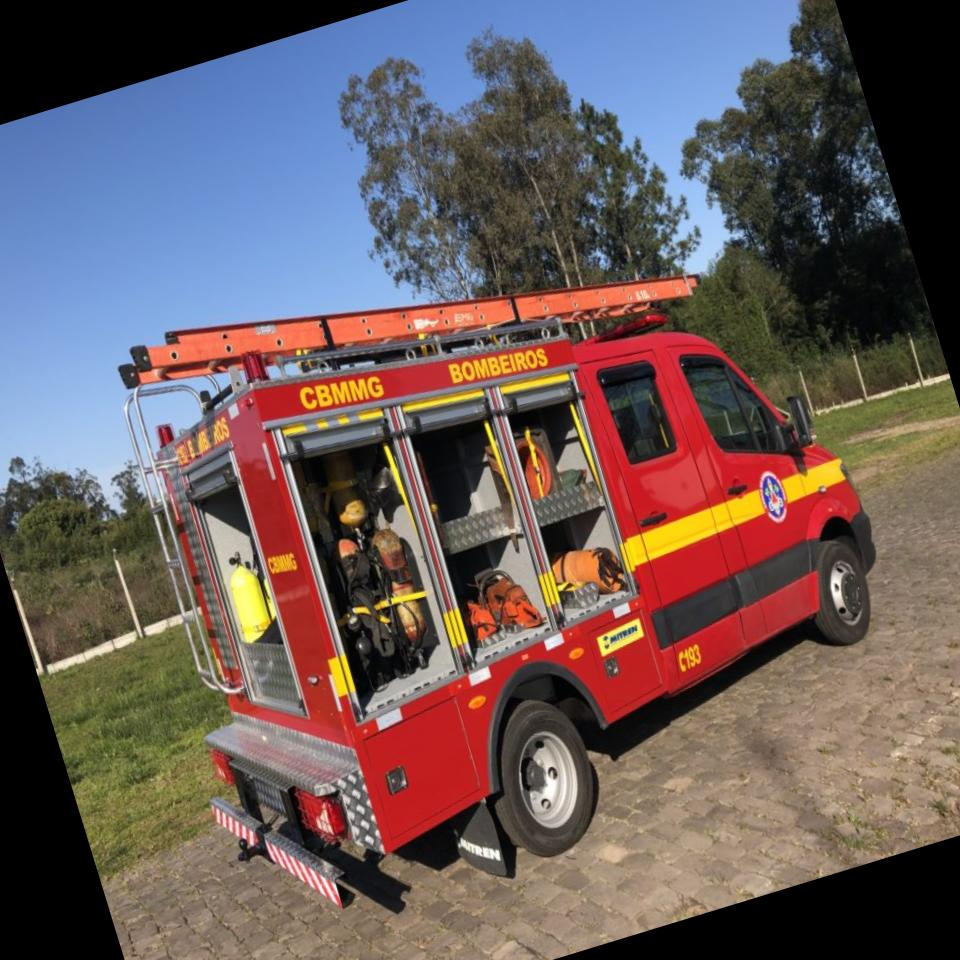viatura: (71, 145, 945, 953)
